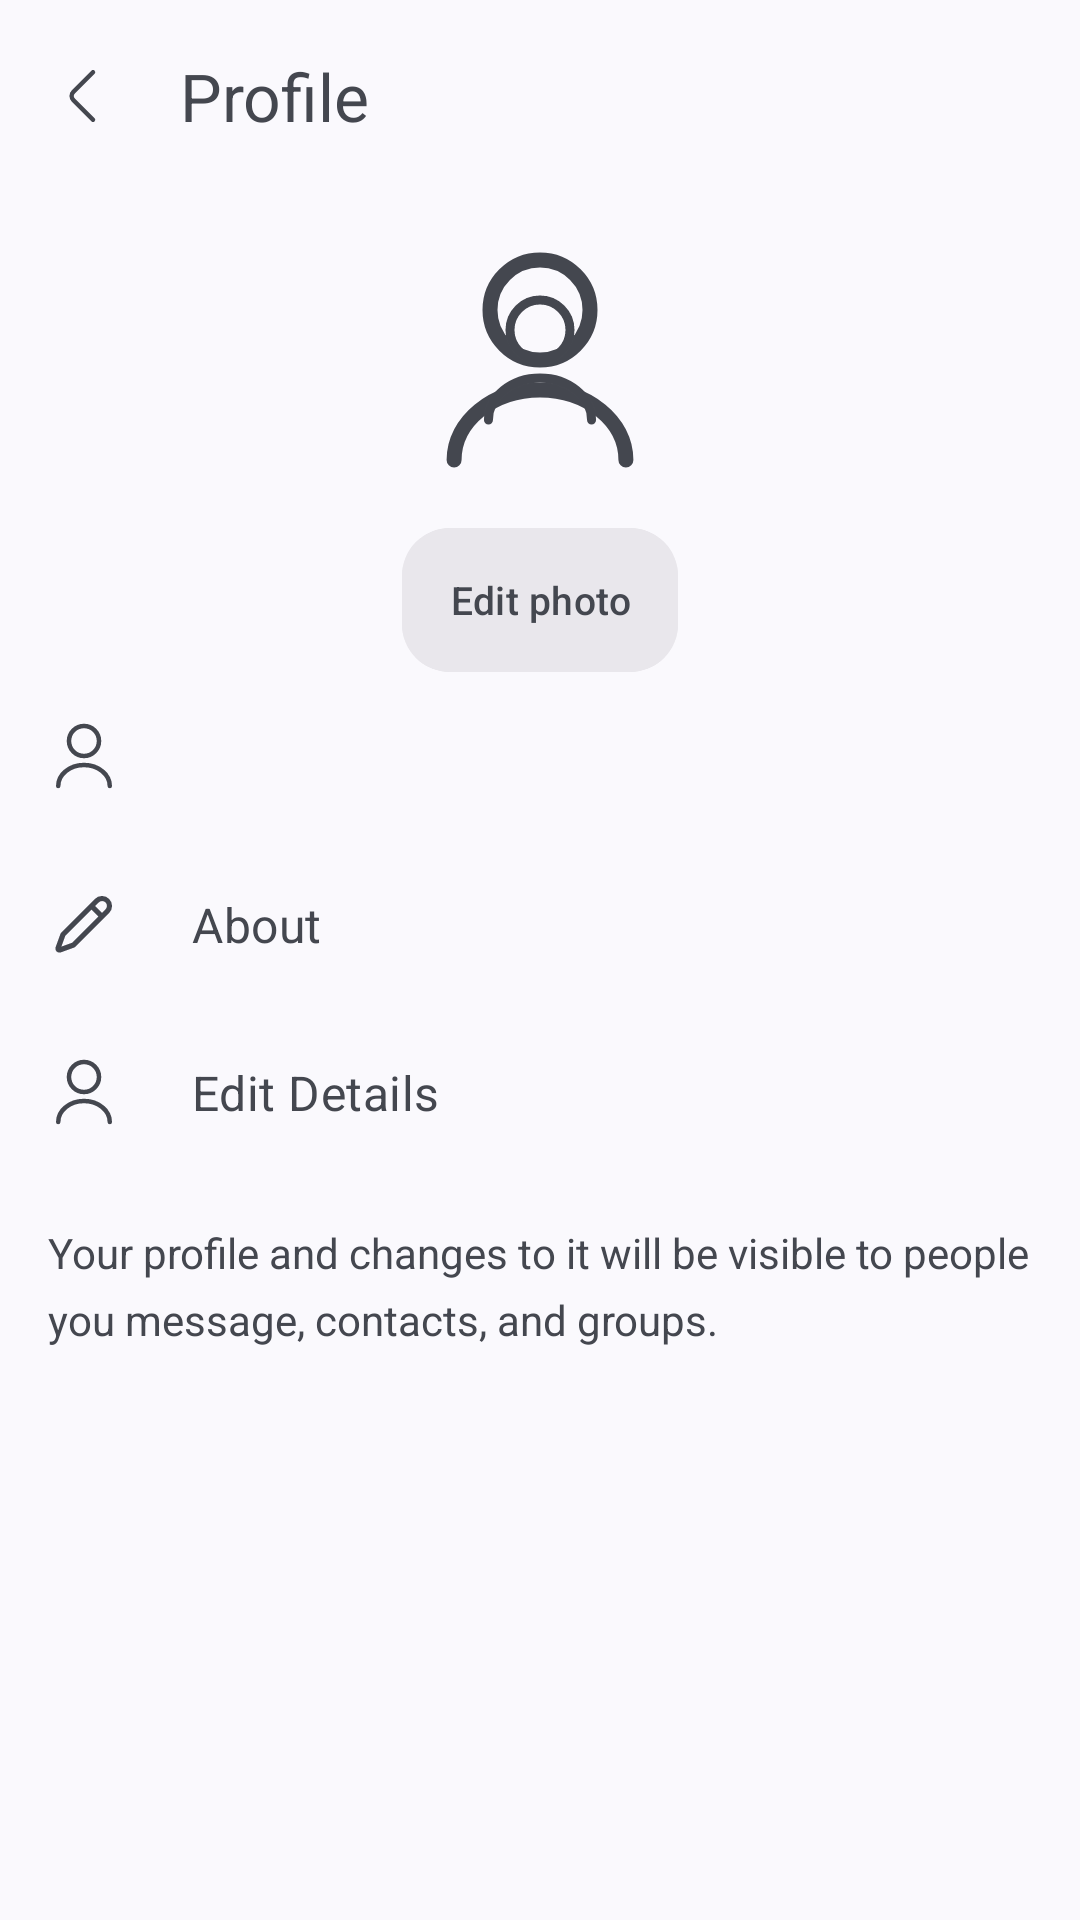

Icon click points for this 1080px×1920px phone screenshot, format [x,y]:
symbol edit: [83,924]
